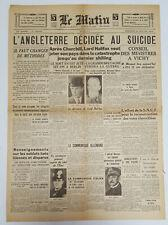paper: (7, 5, 165, 222)
